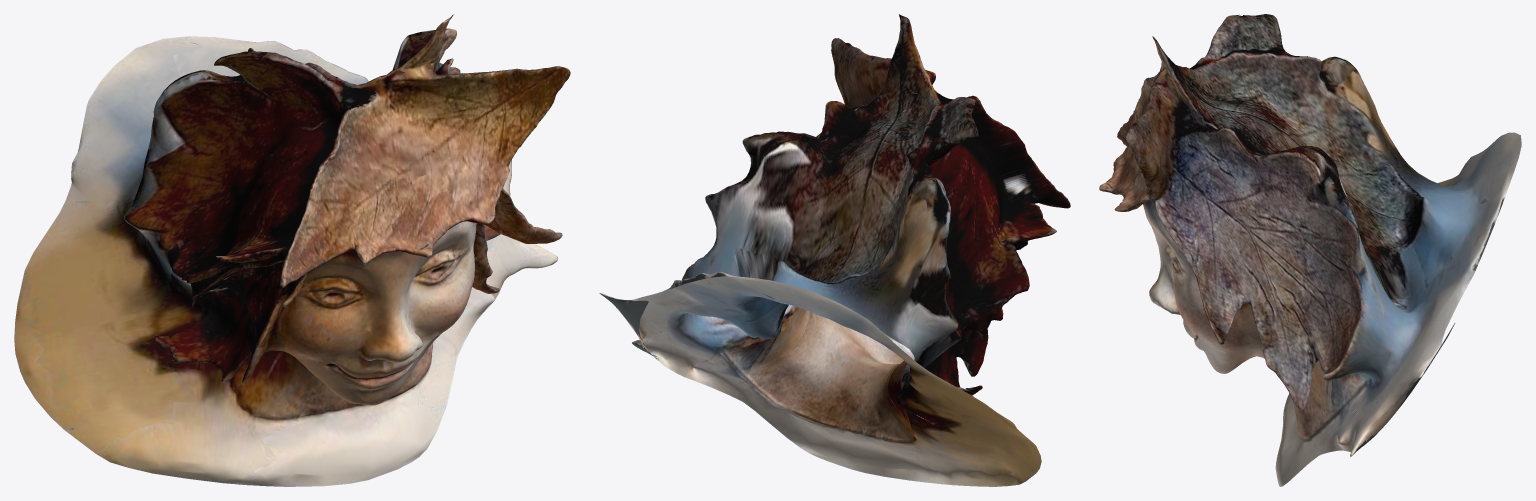
File: jolyHead.glb
3 views of the same model, side by side, from view 1: azimuth 30°, elevation 25°; view 2: azimuth 150°, elevation 25°; view 3: azimuth 270°, elevation 25° (orthographic). The views are drawn at different scales.
Visible parts, largest first — view 1: jolyHead; view 2: jolyHead; view 3: jolyHead.
Part boxes in pixels (x1,y1,x2,y2): jolyHead: (14, 14, 570, 486); jolyHead: (599, 14, 1070, 486); jolyHead: (1099, 14, 1521, 486).
Size of the model in its own units: 39.16 by 36.74 by 31.91.
Materials: 2 (2 with a texture image).
